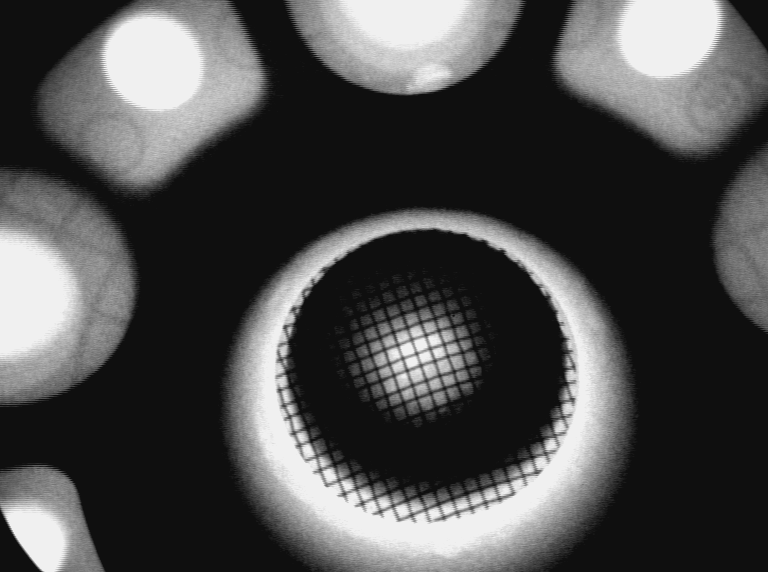defect: (406, 60, 455, 100)
